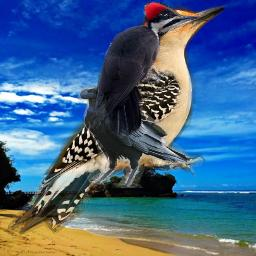Crow: (77, 86, 190, 188)
Woodpecker: (8, 5, 225, 238), (90, 1, 203, 135)
